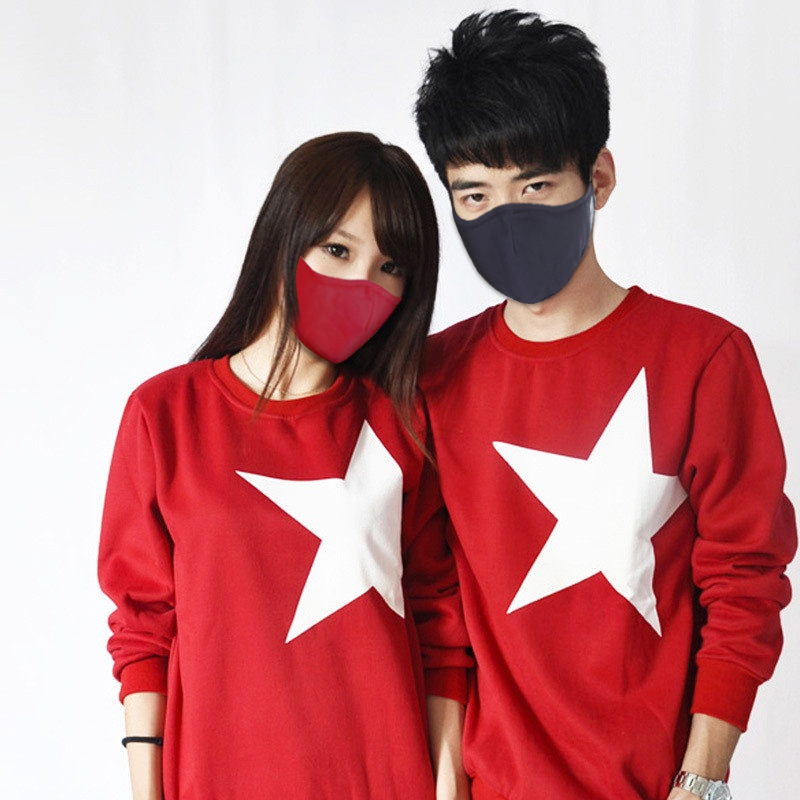face_mask: (442, 110, 587, 298), (284, 178, 412, 362)
